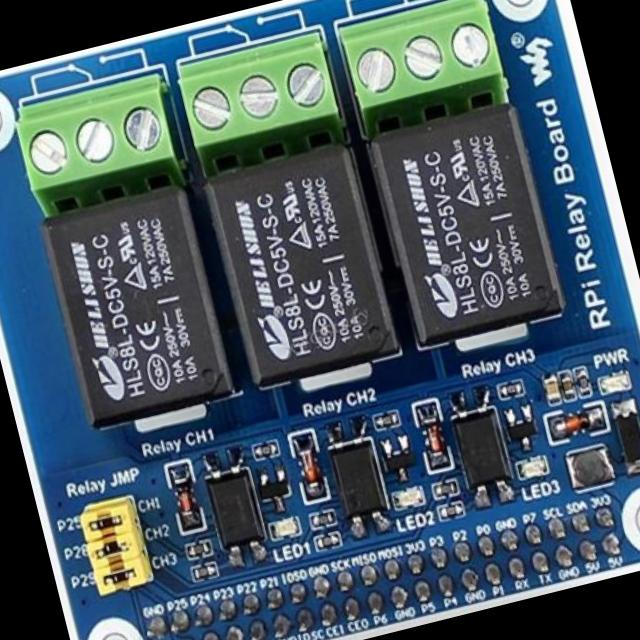IC: (449, 396, 517, 508), (326, 426, 394, 532), (203, 458, 270, 560)
LED: (598, 370, 634, 397), (270, 518, 304, 542), (393, 486, 424, 511), (516, 458, 548, 480)
capacitor: (540, 370, 563, 403), (560, 370, 579, 402)
connector: (6, 67, 191, 217), (168, 24, 348, 172), (331, 0, 509, 139), (91, 554, 156, 600), (76, 499, 140, 540), (86, 531, 146, 568)
diode: (165, 466, 208, 534), (610, 400, 640, 475), (418, 409, 454, 470), (291, 436, 325, 499), (558, 404, 610, 437)
resistor: (250, 436, 282, 466), (184, 538, 214, 562), (374, 408, 404, 432), (498, 377, 527, 401), (574, 364, 595, 396), (315, 530, 343, 552), (309, 508, 336, 530), (192, 560, 218, 582), (438, 500, 463, 521), (432, 480, 458, 498)
transistor: (256, 462, 296, 516), (381, 432, 421, 482), (505, 399, 541, 449)
